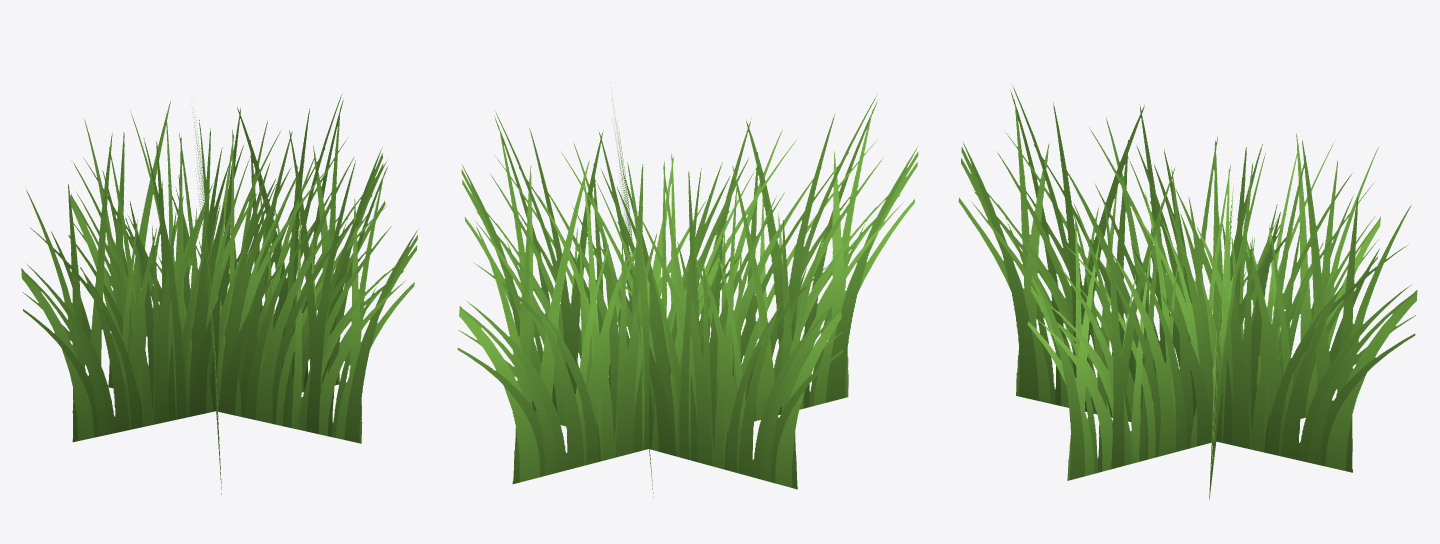
File: grass_1.glb
3 renders of one model, left to right at view 1: azimuth 30°, elevation 25°; view 2: azimuth 150°, elevation 25°; view 3: azimuth 270°, elevation 25°, orthographic. The views are drawn at different scales.
Parts seen in each view (by area): view 1: grass_1; view 2: grass_1; view 3: grass_1.
Part boxes in pixels (x1,y1,x2,y2): grass_1: (21, 95, 418, 494); grass_1: (457, 94, 918, 496); grass_1: (958, 84, 1417, 499).
Size of the model in its own units: 0.5259 by 0.4413 by 0.5679.
Materials: 1 (1 with a texture image).
